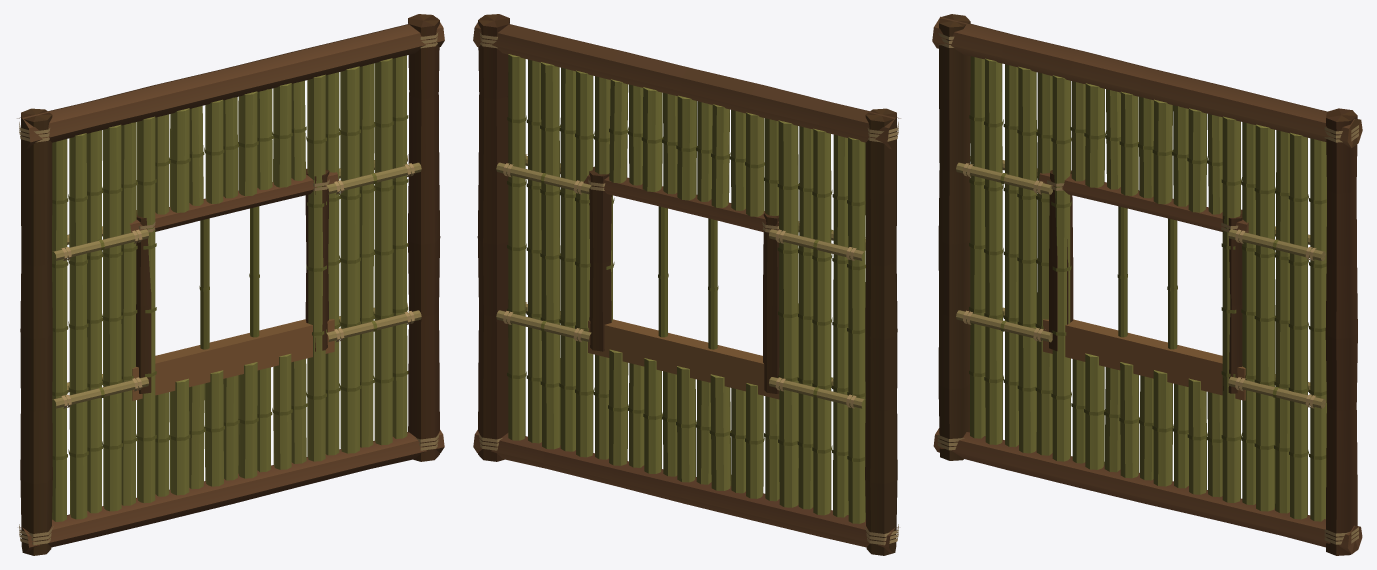
File: window.glb
3 renders of one model, left to right at view 1: azimuth 30°, elevation 25°; view 2: azimuth 150°, elevation 25°; view 3: azimuth 330°, elevation 25°, orthographic.
Visible parts, largest first — view 1: b_window_solid; view 2: b_window_solid; view 3: b_window_solid.
Boxes of the visible parts, x1,y1,x2,y2 form: b_window_solid: (17, 14, 444, 555); b_window_solid: (473, 14, 900, 555); b_window_solid: (932, 14, 1362, 555).
Bounding box in the file's own units: 3.01 × 3.01 × 0.2519.
